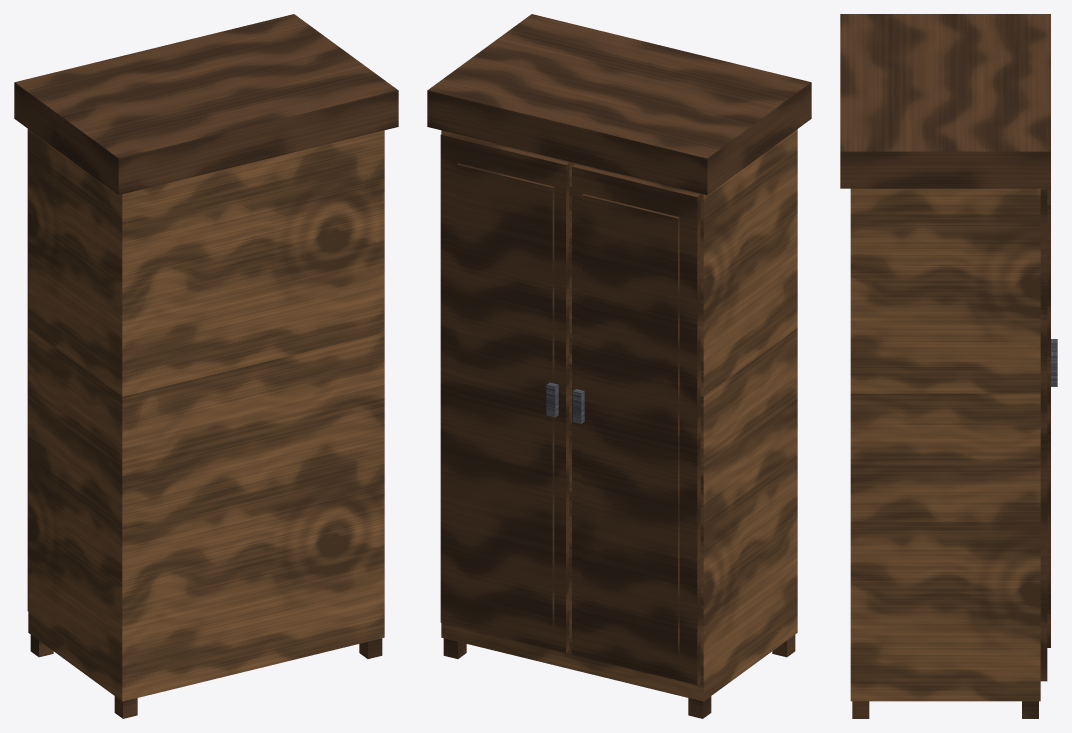
File: wardrobe.fbx
3 renders of one model, left to right at view 1: azimuth 30°, elevation 25°; view 2: azimuth 150°, elevation 25°; view 3: azimuth 270°, elevation 25°, orthographic.
Visible parts, largest first — view 1: wardrobe; view 2: wardrobe; view 3: wardrobe.
Boxes of the visible parts, x1,y1,x2,y2 form: wardrobe: (14, 14, 398, 718); wardrobe: (427, 14, 811, 718); wardrobe: (840, 14, 1057, 718).
Size of the model in its own units: 96 by 186 by 64.
